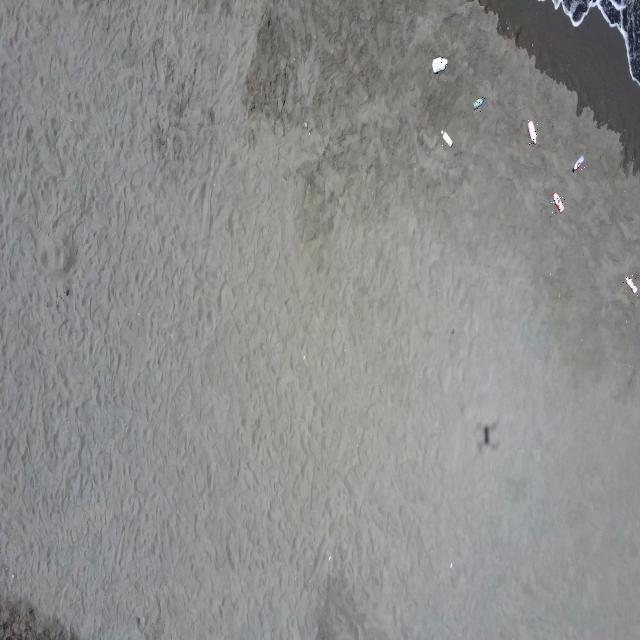Garbage: (552, 192, 563, 212), (432, 57, 447, 71), (624, 276, 636, 293), (440, 129, 452, 145), (527, 120, 535, 143), (572, 155, 583, 171), (472, 96, 484, 108)
